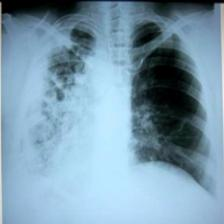tuberculosis: (15, 10, 220, 202)
